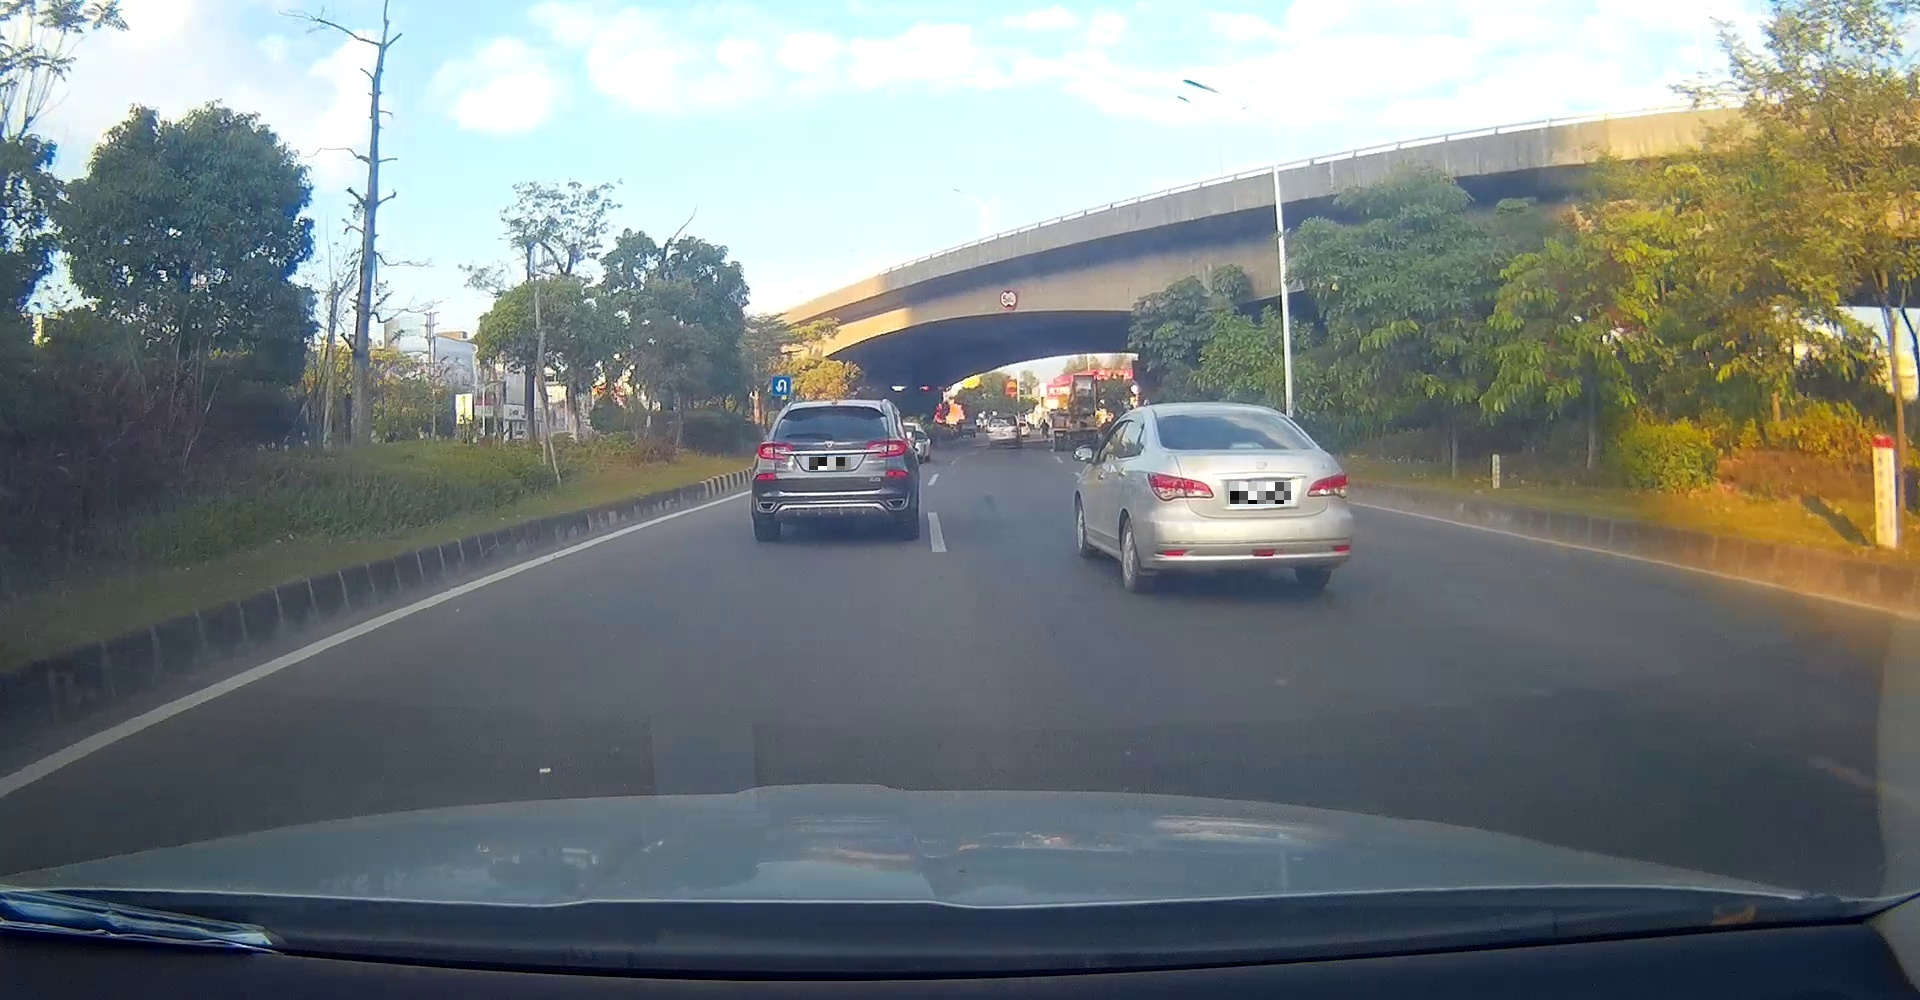L_light: (1145, 470, 1214, 501), (756, 442, 792, 459)
R_light: (1305, 470, 1349, 499), (867, 439, 907, 457)
T_light: (1230, 442, 1263, 449), (820, 407, 844, 411)
day-no: (1145, 402, 1352, 590), (750, 398, 919, 542)
plate_1: (809, 457, 851, 470)
plate_2: (1230, 482, 1291, 504)
